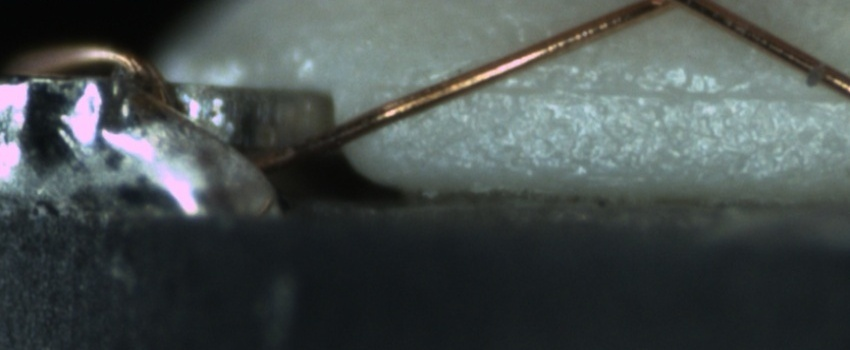CL: (637, 0, 719, 15)
DL: (401, 63, 849, 127)
TE: (10, 27, 186, 113)
